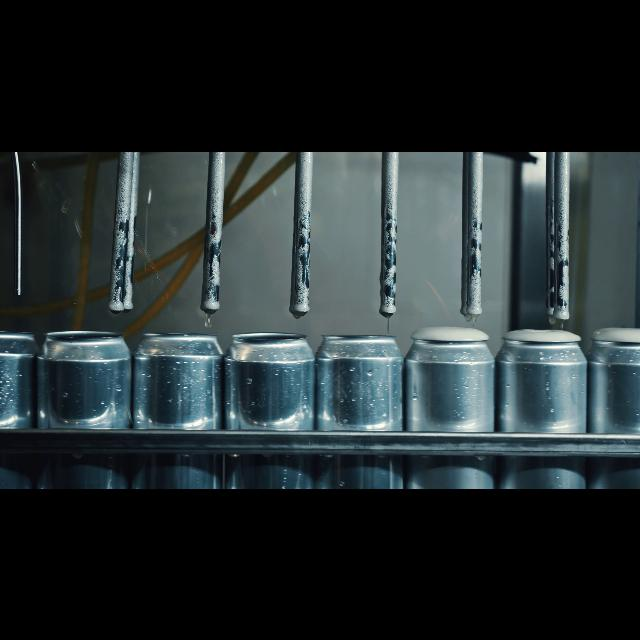empty: (43, 320, 127, 488), (225, 326, 308, 488), (318, 328, 402, 488), (138, 326, 214, 488), (2, 320, 40, 488)
full: (407, 322, 495, 488), (501, 322, 579, 488), (586, 324, 640, 488)
